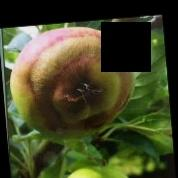rotten apple: (7, 25, 137, 138)
